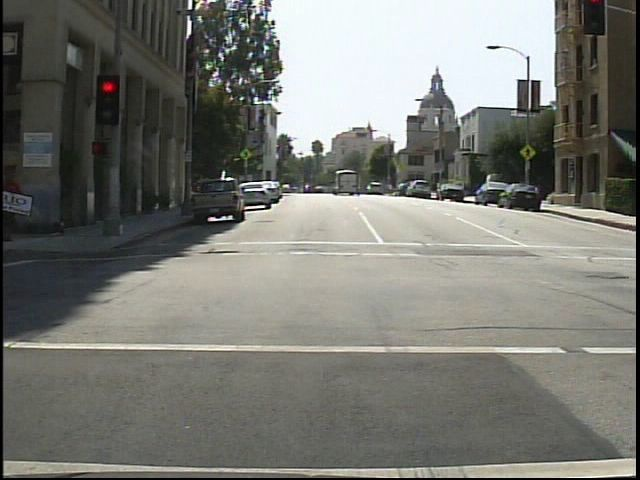person: (3, 159, 25, 244)
